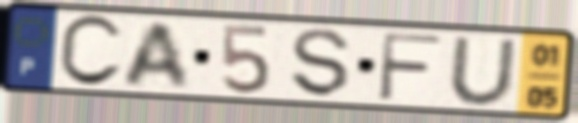5: (218, 21, 274, 96)
A: (119, 20, 194, 91)
C: (55, 12, 126, 91)
F: (375, 29, 446, 105)
S: (289, 27, 353, 100)
U: (446, 35, 520, 108)
